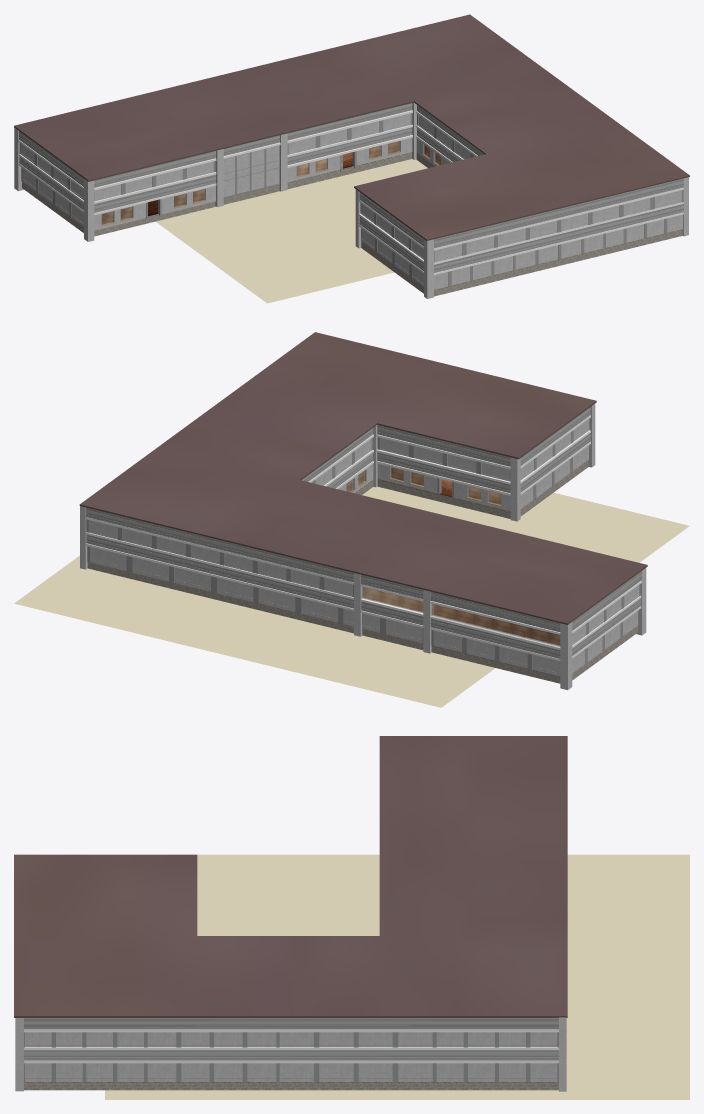
The picture shows the model from 3 angles, top to bottom: view 1: azimuth 30°, elevation 25°; view 2: azimuth 150°, elevation 25°; view 3: azimuth 270°, elevation 25°; orthographic projection. The views are drawn at different scales.
Visible parts, largest first — view 1: prim0-mesh#1, Terrain 14,6, prim0-mesh#5, Mega Shop, prim0-mesh#2, prim0-mesh#3, prim0-mesh#6, Terrain 15,6; view 2: prim0-mesh#1, prim0-mesh#5, Mega Shop, prim0-mesh#2, Terrain 14,7, Terrain 15,7, Terrain 14,6, prim0-mesh#6, prim0-mesh#3, Terrain 15,6; view 3: prim0-mesh#1, prim0-mesh#5, Terrain 15,7, Terrain 14,7, Terrain 14,6, Mega Shop, prim0-mesh#2, Terrain 15,6.
Boxes of the visible parts, x1,y1,x2,y2 form: prim0-mesh#1: (14,14,689,296); Terrain 14,6: (156,172,394,303); prim0-mesh#5: (19,113,683,289); Mega Shop: (19,103,683,272); prim0-mesh#2: (14,102,688,298); prim0-mesh#3: (94,138,449,230); prim0-mesh#6: (101,141,440,224); Terrain 15,6: (357,159,427,182); prim0-mesh#1: (79,332,647,683); prim0-mesh#5: (86,419,640,676); Mega Shop: (86,407,641,658); prim0-mesh#2: (80,403,646,690); Terrain 14,7: (226,615,495,707); Terrain 15,7: (14,555,279,655); Terrain 14,6: (424,492,689,562); prim0-mesh#6: (346,467,560,646); prim0-mesh#3: (338,463,510,511); Terrain 15,6: (362,486,436,510); prim0-mesh#1: (14,736,567,1090); prim0-mesh#5: (24,1032,558,1081); Terrain 15,7: (397,978,689,1099); Terrain 14,7: (567,854,689,978); Terrain 14,6: (197,854,379,935); Mega Shop: (24,1018,558,1060); prim0-mesh#2: (15,1017,566,1091); Terrain 15,6: (105,1090,397,1099).
Size of the model in its own units: 149 by 18.99 by 148.
14 materials, 12 textured.
